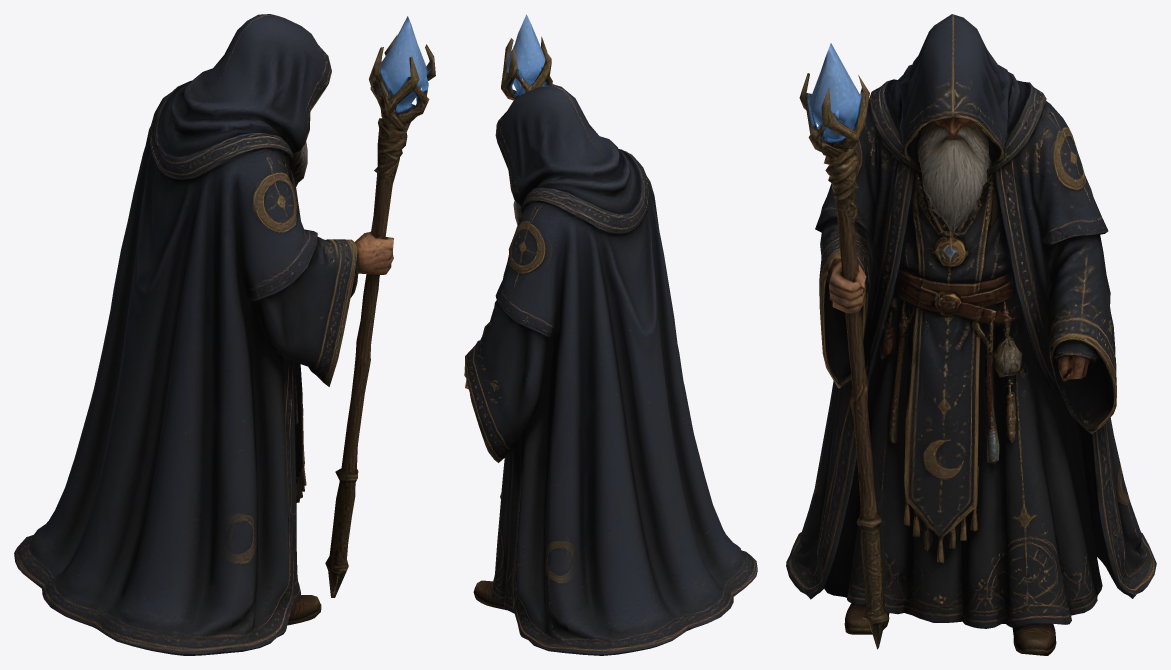
File: teleport.gltf
3 views of the same model, side by side, from view 1: azimuth 30°, elevation 25°; view 2: azimuth 150°, elevation 25°; view 3: azimuth 270°, elevation 25° (orthographic). The views are drawn at different scales.
Parts seen in each view (by area): view 1: tripo_node_a2fc947d-a9f0-4fb8-8e2c-c1bcf6582704; view 2: tripo_node_a2fc947d-a9f0-4fb8-8e2c-c1bcf6582704; view 3: tripo_node_a2fc947d-a9f0-4fb8-8e2c-c1bcf6582704.
Part boxes in pixels (x1,y1,x2,y2): tripo_node_a2fc947d-a9f0-4fb8-8e2c-c1bcf6582704: (14, 14, 435, 655); tripo_node_a2fc947d-a9f0-4fb8-8e2c-c1bcf6582704: (464, 14, 757, 655); tripo_node_a2fc947d-a9f0-4fb8-8e2c-c1bcf6582704: (786, 14, 1156, 655).
Size of the model in its own units: 0.5605 by 1 by 0.5275.
Materials: 1 (1 with a texture image).
